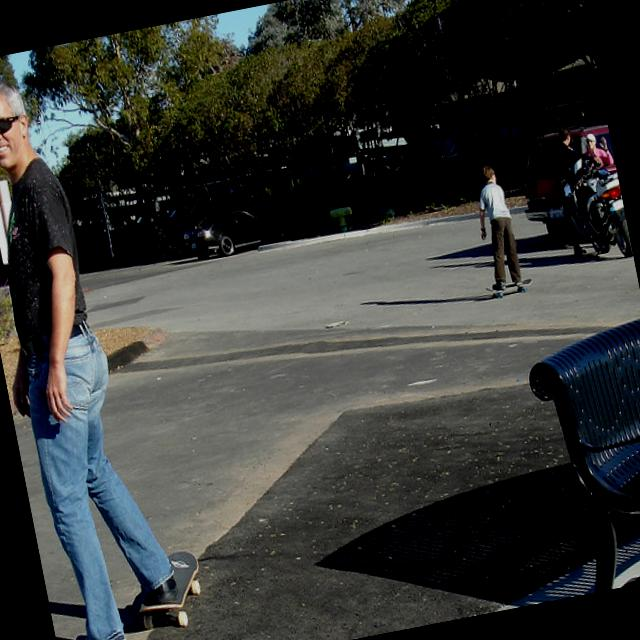Vehicle: (504, 116, 629, 252), (555, 150, 633, 264), (180, 200, 290, 263), (0, 247, 13, 290)
